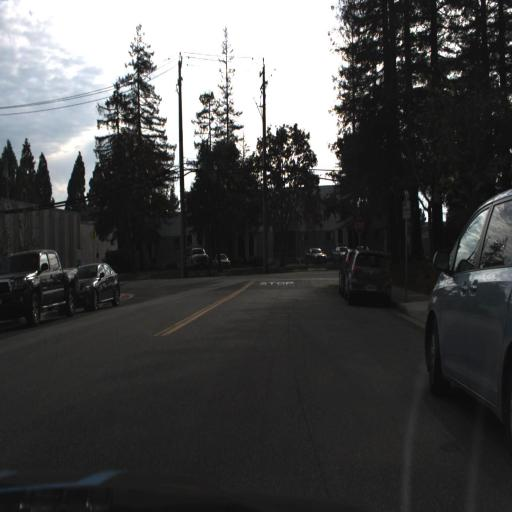car: (421, 185, 512, 435), (0, 249, 81, 323), (345, 245, 394, 309), (345, 244, 393, 308), (75, 256, 120, 313), (81, 260, 120, 308), (303, 241, 327, 273), (207, 249, 229, 273), (185, 247, 207, 270)
